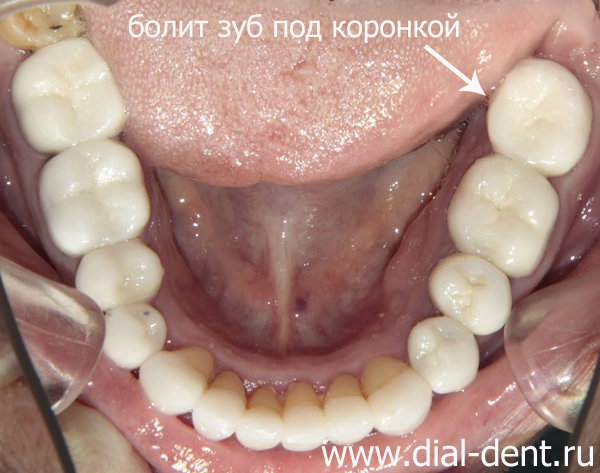LL1BC_healthy: (413, 318, 481, 387)
LL1M_healthy: (457, 159, 559, 270)
LL2BC_healthy: (434, 254, 510, 332)
LL2M_healthy: (488, 60, 586, 166)
LLCI_healthy: (282, 383, 327, 451)
LLC_healthy: (361, 356, 431, 430)
LLLI_healthy: (324, 373, 374, 441)
LR1BC_healthy: (105, 307, 166, 358)
LR1M_healthy: (49, 155, 146, 242)
LR2BC_healthy: (75, 244, 166, 306)
LR2M_healthy: (17, 48, 131, 140)
LRCI_healthy: (244, 386, 286, 453)
LRC_healthy: (155, 342, 209, 410)
LRLI_healthy: (205, 373, 243, 437)
